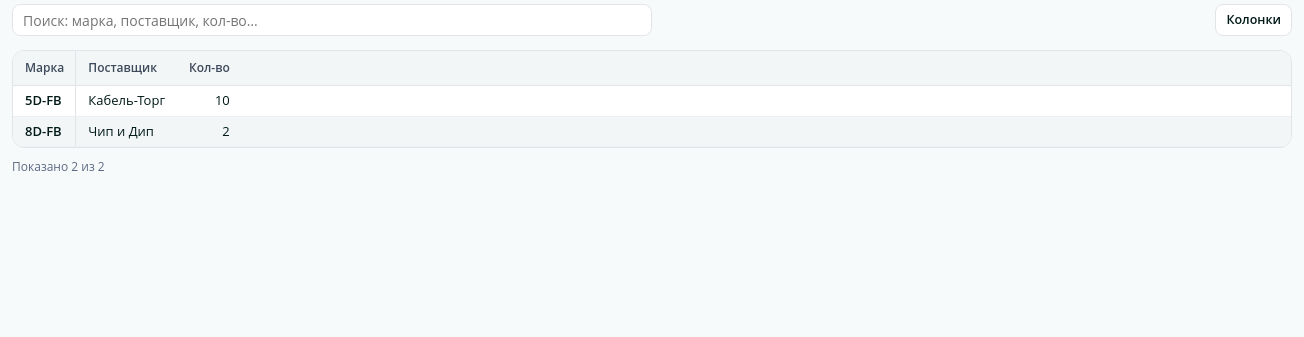
Test: общий набор столбцов › offers «Сохранить для всех» only to those who edit, and sends the order and what is shown
What coordinates should you click on to do the following:
click the button "Колонки"
I would click on:
 (1254, 20)
Its box is [1215, 4, 1292, 36].
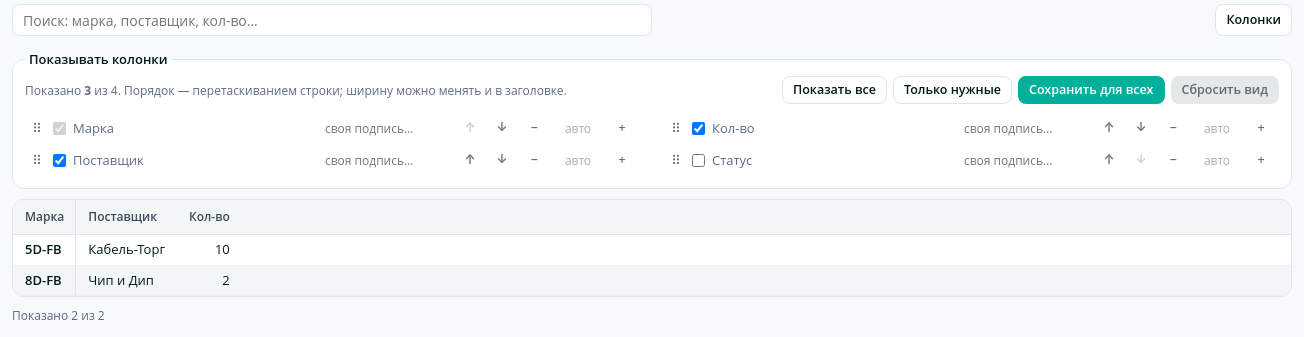
What coordinates should you click on to do the following:
click the checkbox labelled "Поставщик"
I would click on:
 (60, 160)
Its box is [53, 154, 66, 166].
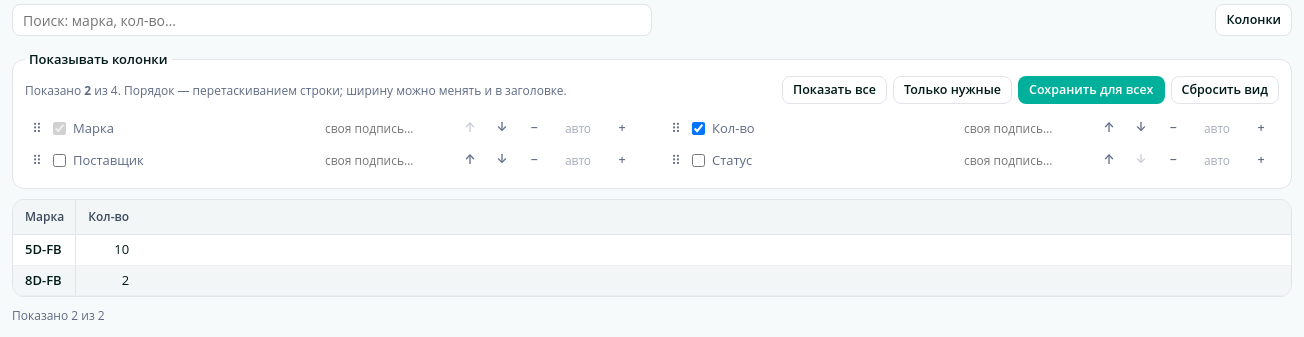
What coordinates should you click on to do the following:
click the button named "Ниже: Марка"
I would click on:
 (502, 128)
Its box is [488, 114, 516, 142].
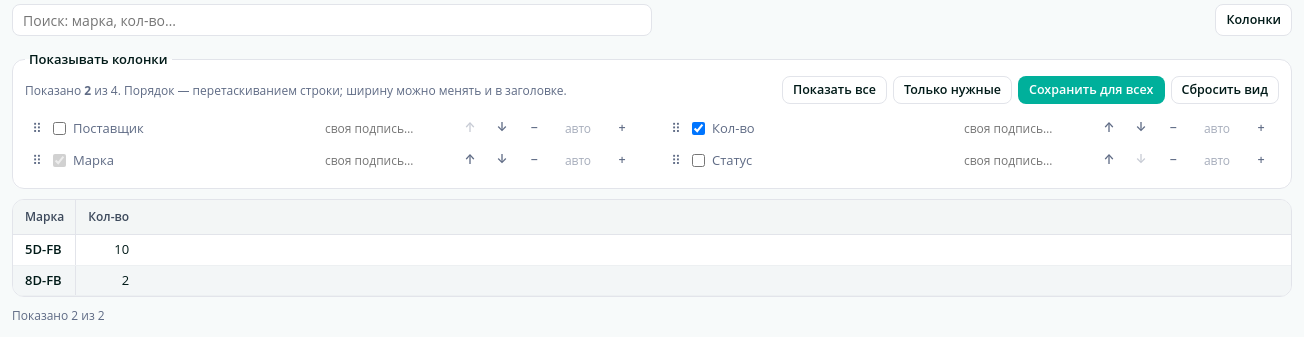
the name column is first by data, so the moved one is the second: press «Выше» on the quantity
What coordinates should you click on to do the following:
click the button named "Выше: Кол-во"
I would click on:
 (1109, 128)
Its box is [1095, 114, 1123, 142].
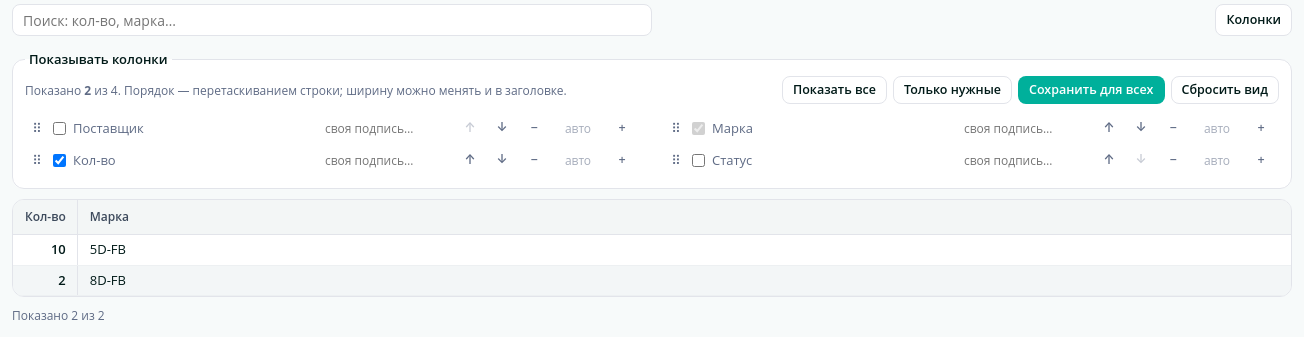
What coordinates should you click on to do the following:
click the button "Сохранить для всех"
I would click on:
 (1091, 90)
Its box is [1018, 76, 1164, 104].
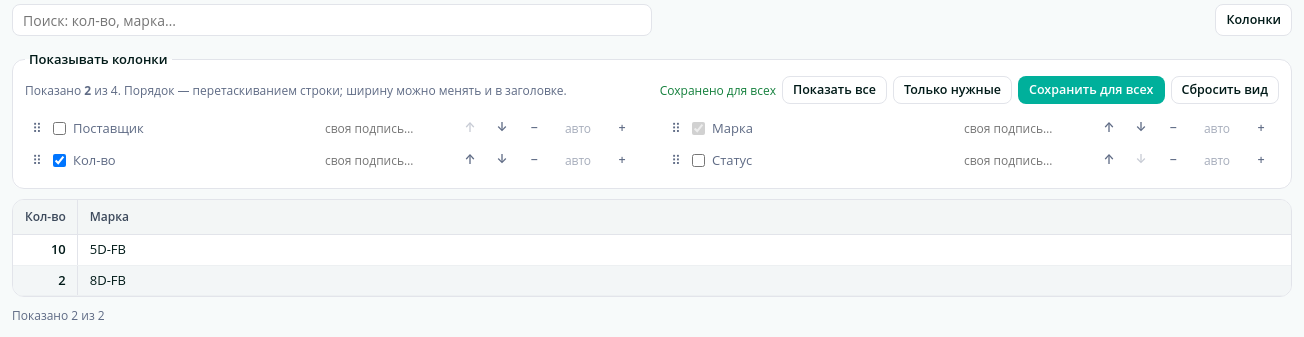
Expected: the text "Сохранено для всех" is shown, [660, 82, 776, 98]
